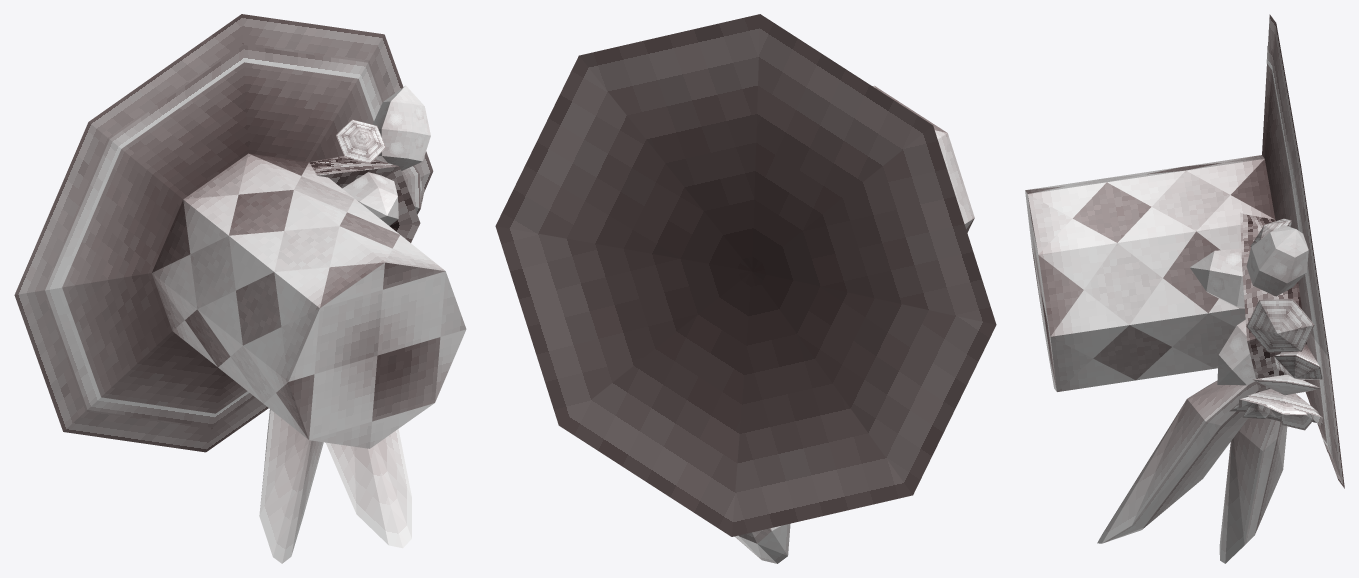
The model's file is options370.obj.
The picture shows the model from 3 angles, left to right: view 1: azimuth 30°, elevation 25°; view 2: azimuth 150°, elevation 25°; view 3: azimuth 270°, elevation 25°; orthographic projection. The views are drawn at different scales.
Parts seen in each view (by area): view 1: options370; view 2: options370; view 3: options370.
Part boxes in pixels (<box>): options370: <box>14,14,466,563</box>; options370: <box>495,14,996,563</box>; options370: <box>1025,14,1344,563</box>.
Bounding box in the file's own units: 0.9346 × 1.08 × 0.5877.
1 material, 1 textured.
